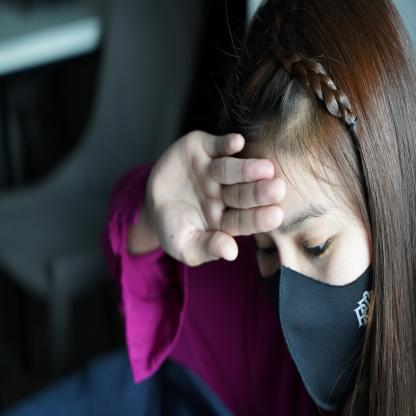Sick: (119, 131, 308, 277)
